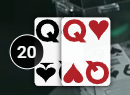q: (34, 17, 61, 45), (62, 17, 89, 45)
